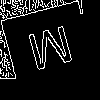M: (24, 25, 79, 81)
